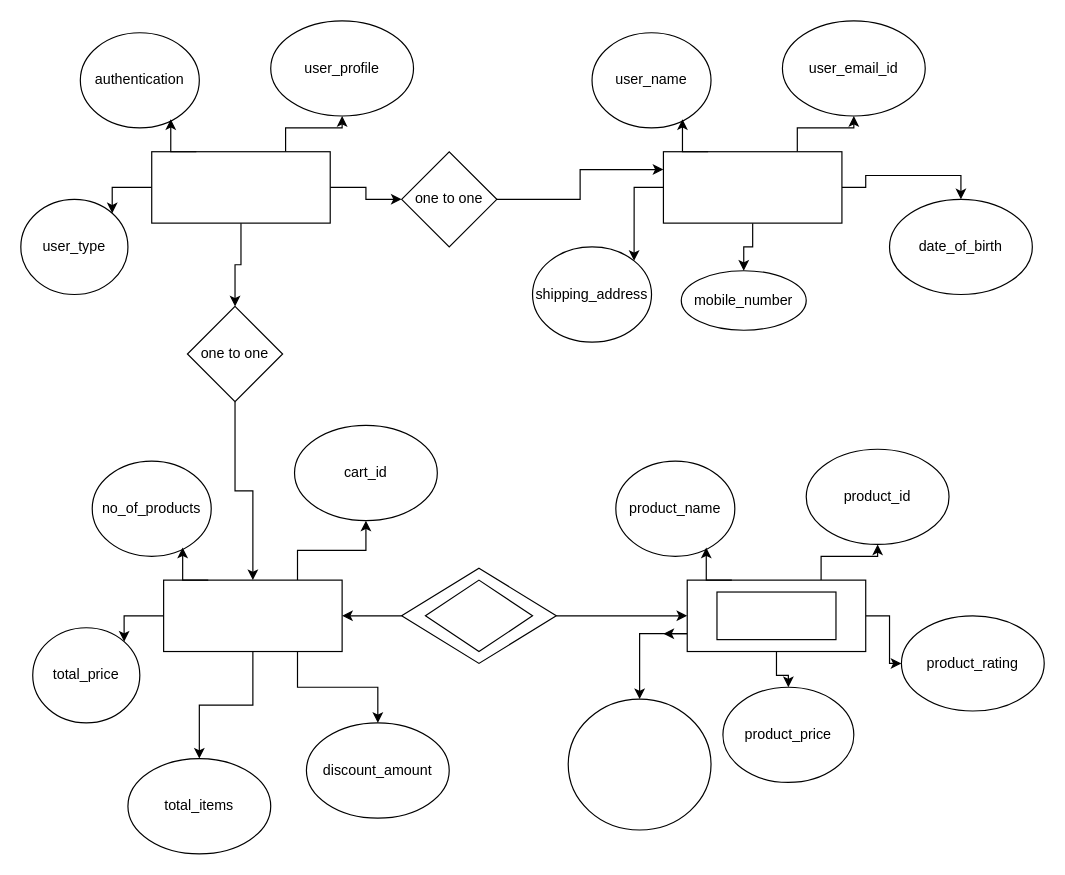
Image size: 1065x875. Some labels were removed from this diagram. Each missing label, with the box of its shape:
CART: (162, 579, 342, 652)
many to many: (424, 579, 533, 652)
product_description: (567, 698, 711, 830)
PRODUCTS: (716, 591, 836, 640)
USERPROFILE: (662, 151, 842, 223)
USERS: (151, 151, 330, 223)
